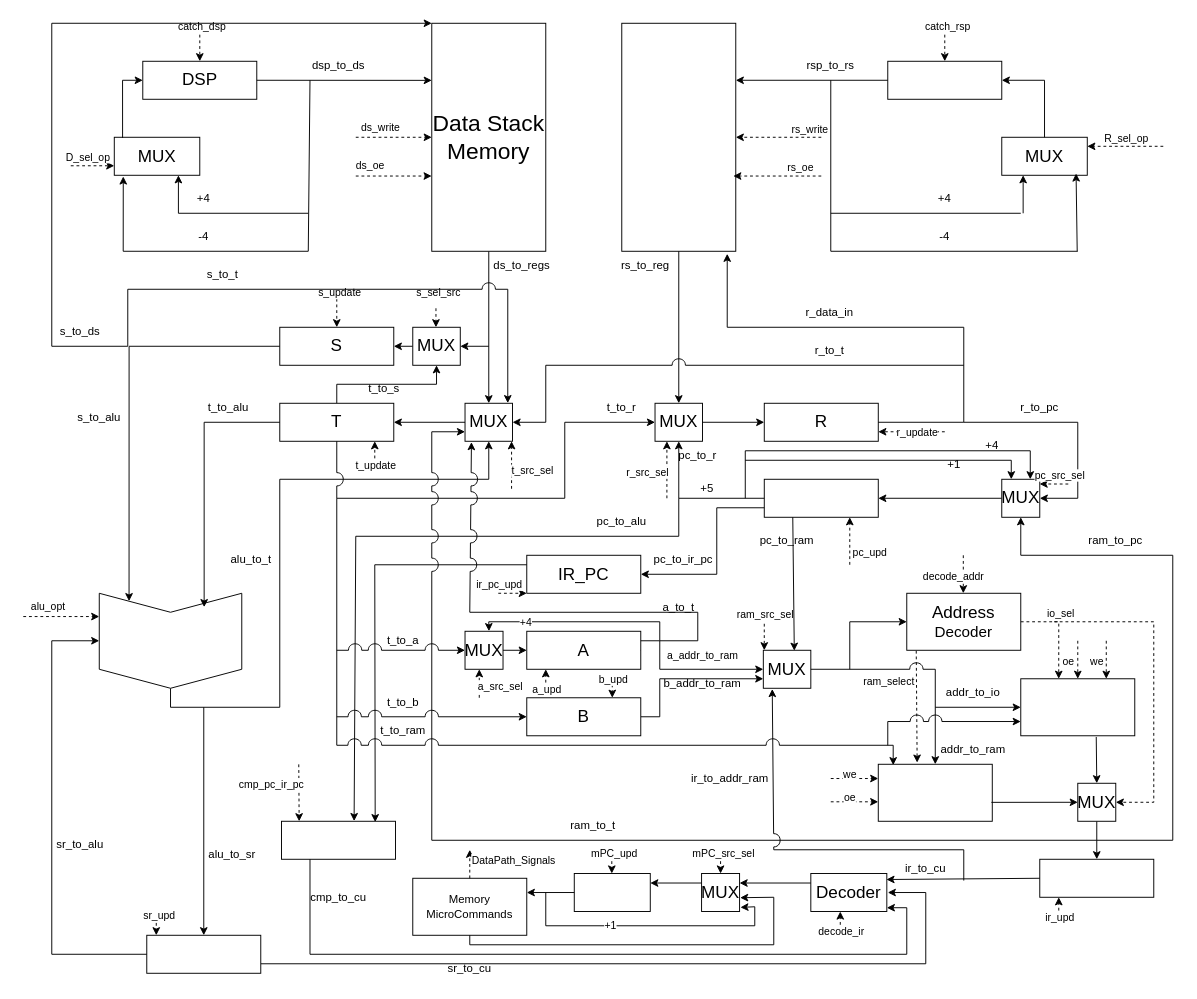
This 1197x999 diagram has some shape labels left out. Each missing label, with the centre of its shape:
ALU: point (170, 640)
Comparator: point (338, 839)
IO Controllers: point (1077, 707)
IR: point (1096, 877)
mPC: point (611, 892)
PC: point (820, 497)
RAM: point (934, 792)
Return Stack Memory: point (678, 136)
RSP: point (944, 79)
SR: C EAM: point (203, 953)
